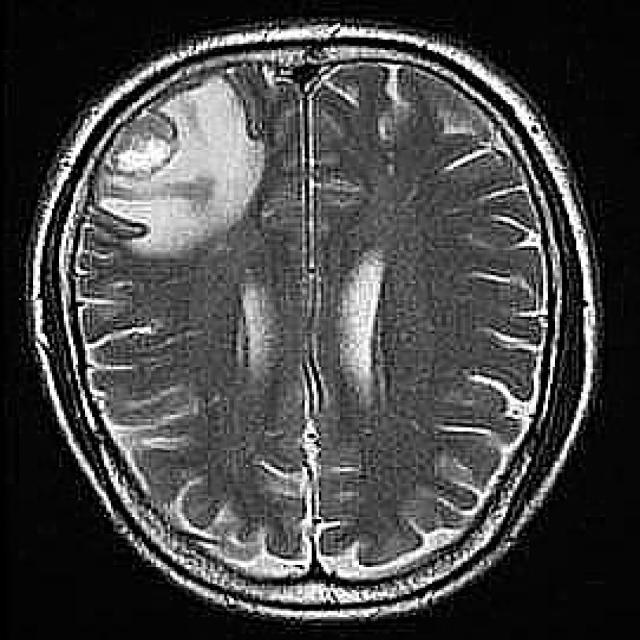Tumor-Cell: (95, 86, 278, 266)
